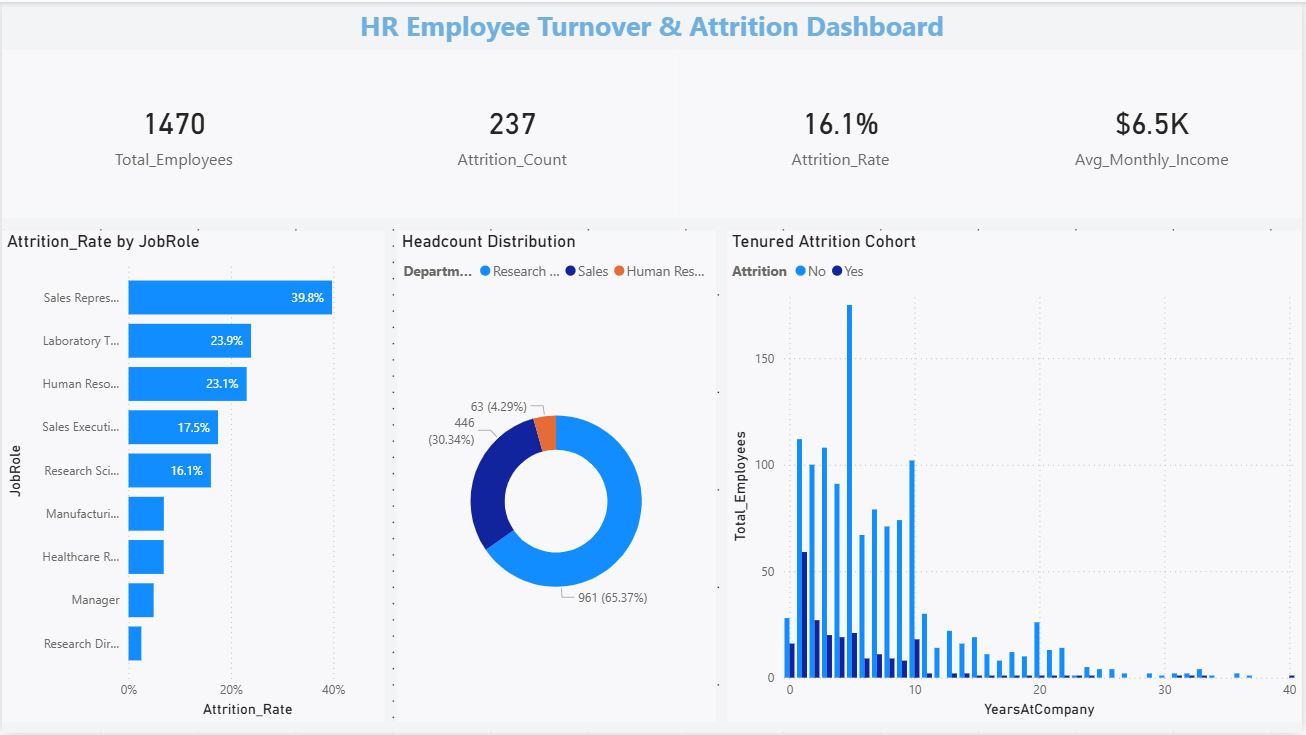

The page's visual inventory and layout, read from the dashboard file:
{"tool":"powerbi","page":{"name":"HR Overview","canvas":[1280,720],"ordinal":0},"visuals":[{"type":"textbox","box":[0,0,1280,47.1],"z":0},{"type":"card","fields":{"Values":["Measure_Table.Total_Employees"]},"box":[0,47.1,339,165.3],"z":1000},{"type":"card","fields":{"Values":["Measure_Table.Attrition_Count"]},"box":[339,47.1,328.2,165.3],"z":2000},{"type":"card","fields":{"Values":["Measure_Table.Attrition_Rate"]},"box":[667.2,47.1,317.3,165.3],"z":3000},{"type":"card","fields":{"Values":["Measure_Table.Avg_Monthly_Income"]},"box":[984.5,47.1,295.6,165.3],"z":4000},{"type":"donutChart","title":"Headcount Distribution","fields":{"Category":["IBM-HR-Employee-Attrition.Department"],"Y":["Measure_Table.Total_Employees"]},"box":[388.5,225.6,313.7,483.8],"z":5000},{"type":"clusteredBarChart","fields":{"Category":["IBM-HR-Employee-Attrition.JobRole"],"Y":["Measure_Table.Attrition_Rate"]},"box":[0,225.2,379.1,483.7],"z":6000},{"type":"clusteredColumnChart","title":"Tenured Attrition Cohort","fields":{"Category":["IBM-HR-Employee-Attrition.YearsAtCompany"],"Series":["IBM-HR-Employee-Attrition.Attrition"],"Y":["Measure_Table.Total_Employees"]},"box":[714.2,225.6,565.8,483.8],"z":7000}]}

Visuals, with their boxes in screenshot pixels (x1, y1, x2, y2), scaled from the page's 1280x720 canvas onto the 1306x735 screenshot:
textbox: pyautogui.locateOnScreen(0, 0, 1305, 48)
card - Measure_Table.Total_Employees: pyautogui.locateOnScreen(0, 48, 346, 217)
card - Measure_Table.Attrition_Count: pyautogui.locateOnScreen(346, 48, 681, 217)
card - Measure_Table.Attrition_Rate: pyautogui.locateOnScreen(681, 48, 1004, 217)
card - Measure_Table.Avg_Monthly_Income: pyautogui.locateOnScreen(1004, 48, 1305, 217)
"Headcount Distribution" donutChart: pyautogui.locateOnScreen(396, 230, 716, 724)
clusteredBarChart - IBM-HR-Employee-Attrition.JobRole x Measure_Table.Attrition_Rate: pyautogui.locateOnScreen(0, 230, 387, 724)
"Tenured Attrition Cohort" clusteredColumnChart: pyautogui.locateOnScreen(729, 230, 1305, 724)
